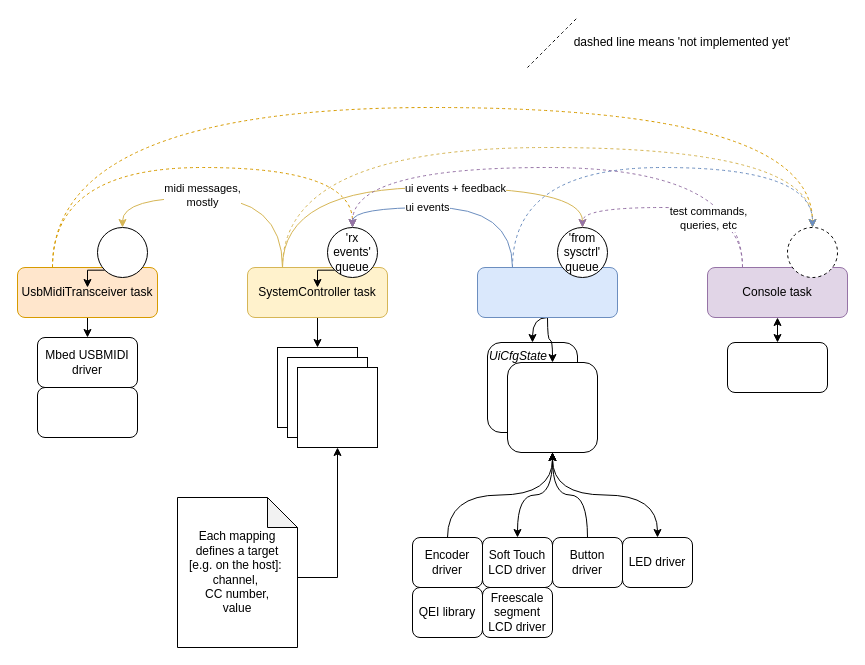
Some shapes in this 865 by 665 pixel diagram are drawn without their labels. Each missing label, with the centre of its shape:
"'debug info' queue" belongs at point (812, 252).
"'to host' queue" belongs at point (122, 252).
"Mapping n" belongs at point (337, 407).
"Mbed BufferedSerial driver" belongs at point (777, 367).
"Mbed USB PHY driver" belongs at point (87, 412).
"UiCtrlState" belongs at point (552, 407).
"UiMgr task" belongs at point (547, 292).
